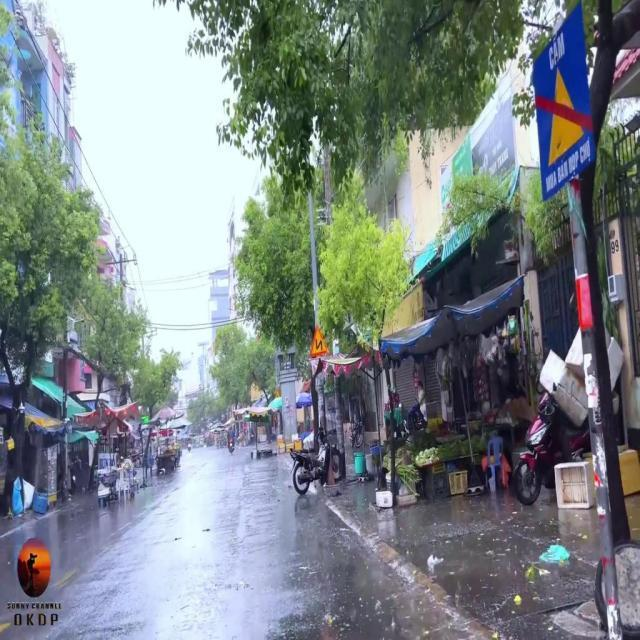201-cho-ngoat-nguy-hiem: (309, 326, 329, 356)
